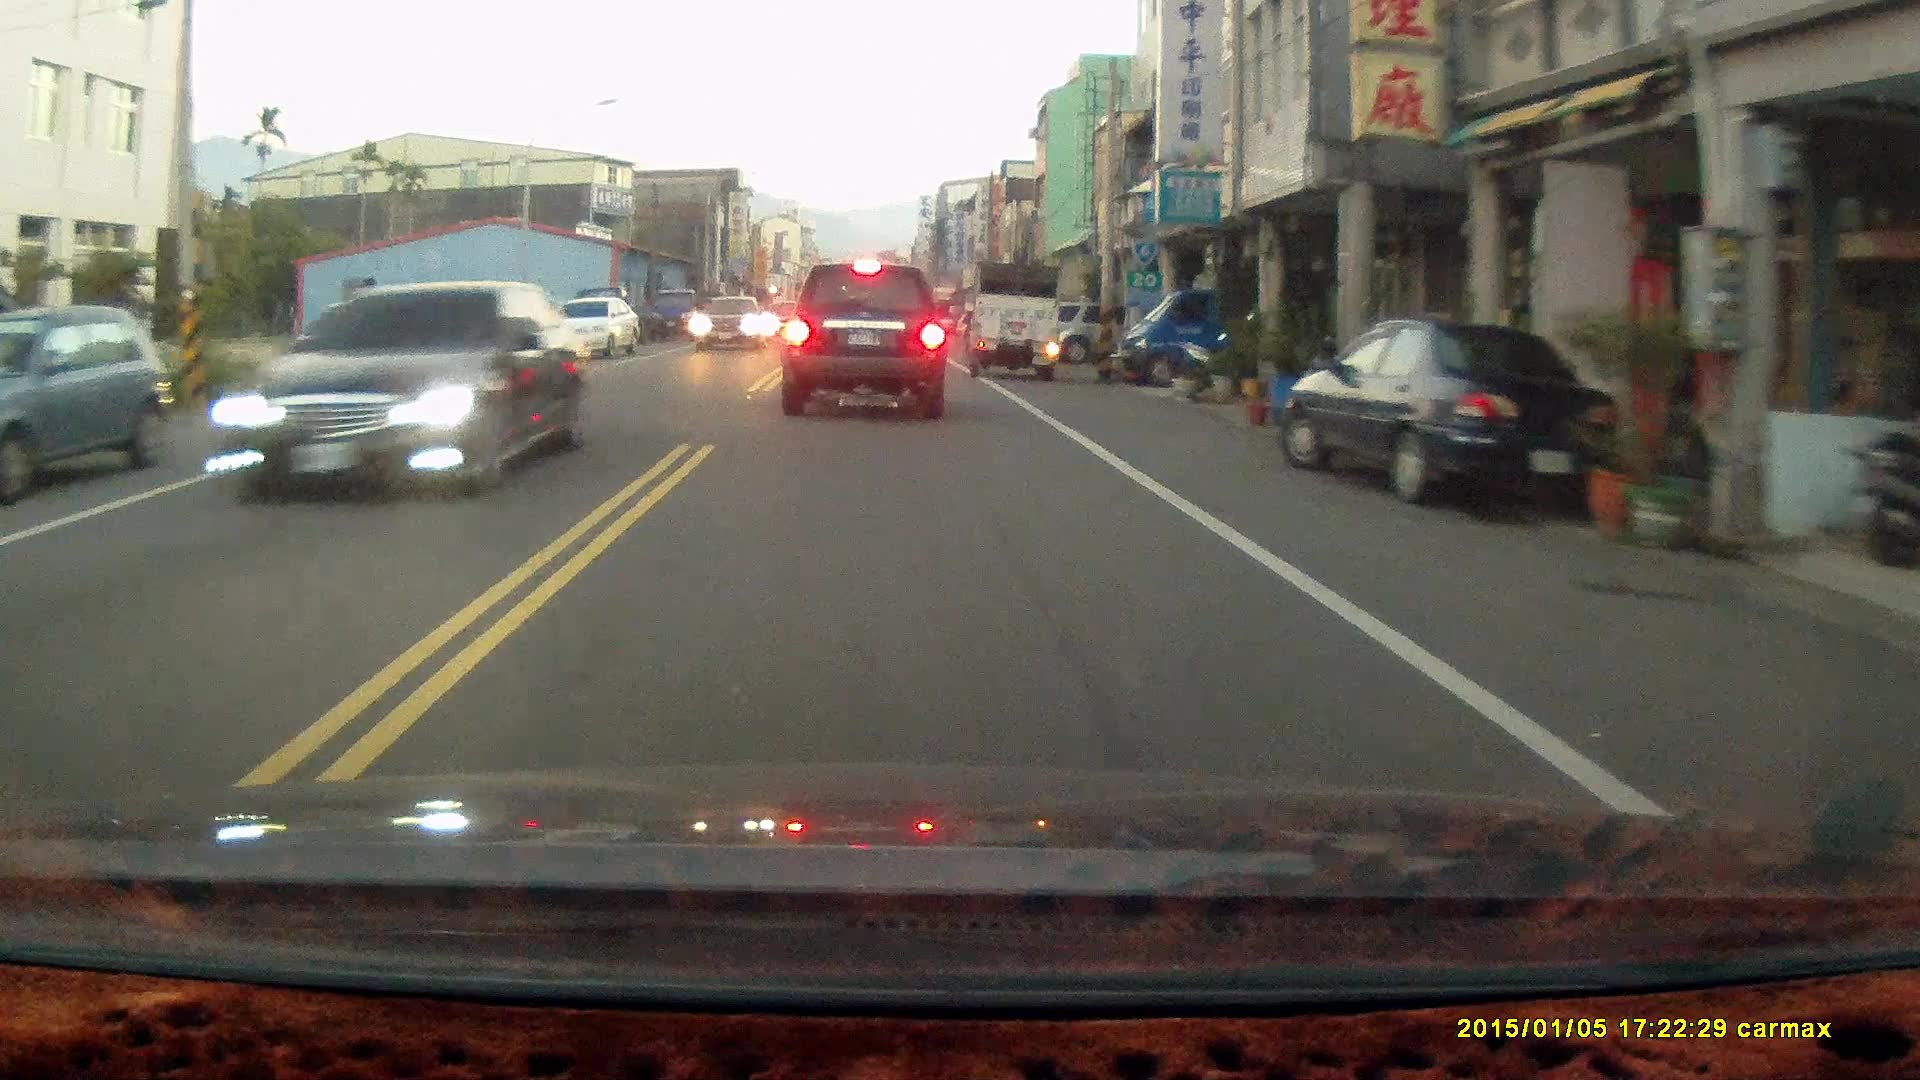vehicle: (200, 280, 591, 504), (1274, 316, 1633, 512), (1, 305, 173, 512), (783, 258, 948, 415), (1110, 265, 1261, 384), (967, 257, 1063, 375), (542, 291, 644, 359), (696, 295, 771, 349), (647, 284, 705, 338)
